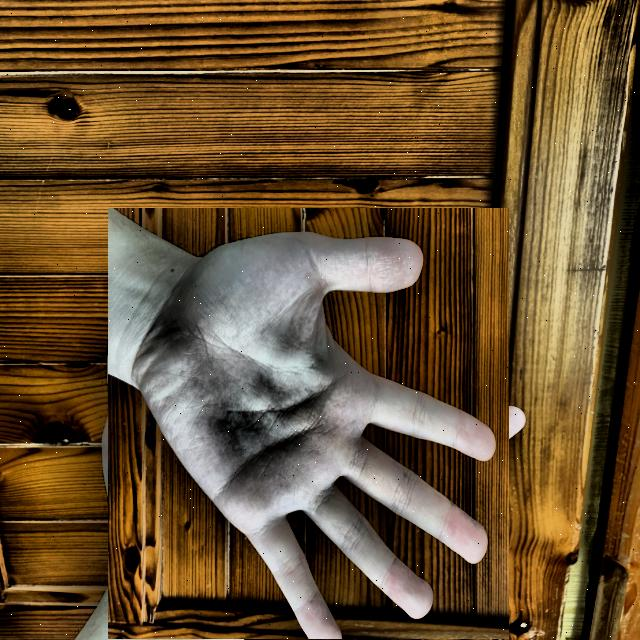not-gloved: (92, 223, 524, 640)
